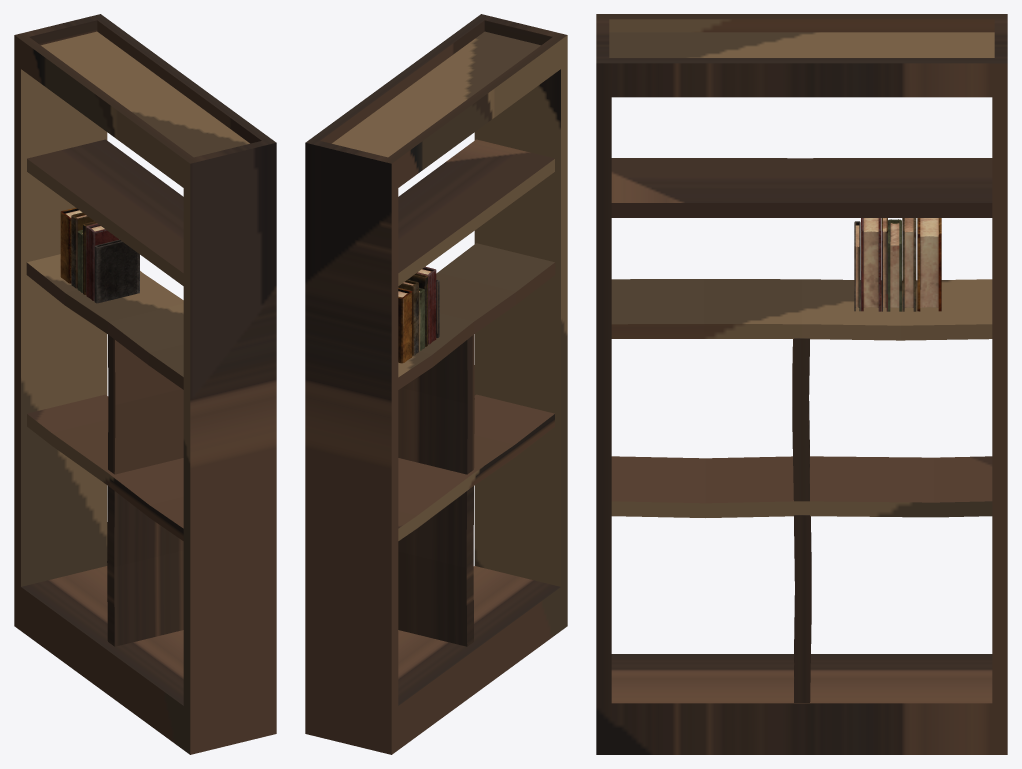
Rendered from book shavel.fbx.
3 renders of one model, left to right at view 1: azimuth 30°, elevation 25°; view 2: azimuth 150°, elevation 25°; view 3: azimuth 270°, elevation 25°, orthographic. The views are drawn at different scales.
Visible parts, largest first — view 1: _gltfNode_28, _gltfNode_24, _gltfNode_16, _gltfNode_26, _gltfNode_18; view 2: _gltfNode_28, _gltfNode_26, _gltfNode_16, _gltfNode_18; view 3: _gltfNode_28, _gltfNode_26, _gltfNode_16, _gltfNode_18, _gltfNode_20.
Boxes of the visible parts, <box> form: _gltfNode_28: <box>14,14,276,754</box>; _gltfNode_24: <box>94,239,139,303</box>; _gltfNode_16: <box>86,223,118,301</box>; _gltfNode_26: <box>60,207,82,283</box>; _gltfNode_18: <box>71,212,94,288</box>; _gltfNode_28: <box>305,14,567,754</box>; _gltfNode_26: <box>398,287,412,363</box>; _gltfNode_16: <box>416,266,436,344</box>; _gltfNode_18: <box>398,279,418,355</box>; _gltfNode_28: <box>596,14,1007,754</box>; _gltfNode_26: <box>917,218,941,311</box>; _gltfNode_16: <box>861,218,881,311</box>; _gltfNode_18: <box>902,218,916,311</box>; _gltfNode_20: <box>887,219,901,311</box>.
Bounding box in the file's own units: 91.44 × 598 × 323.
